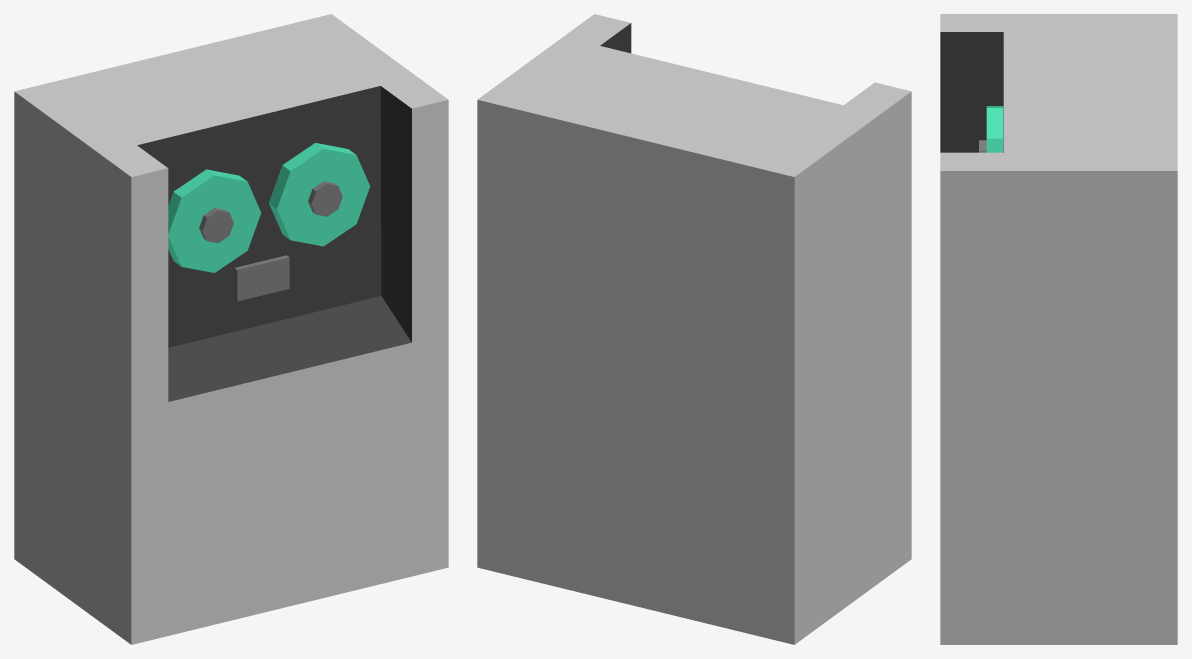
Rendered from maquina.fbx.
3 renders of one model, left to right at view 1: azimuth 30°, elevation 25°; view 2: azimuth 150°, elevation 25°; view 3: azimuth 270°, elevation 25°, orthographic.
Parts seen in each view (by area): view 1: record; view 2: record; view 3: record.
Part boxes in pixels (x1,y1,x2,y2): record: (14,14,448,644); record: (477,14,911,644); record: (940,14,1177,644).
Bounding box in the file's own units: 328 × 462 × 210.
